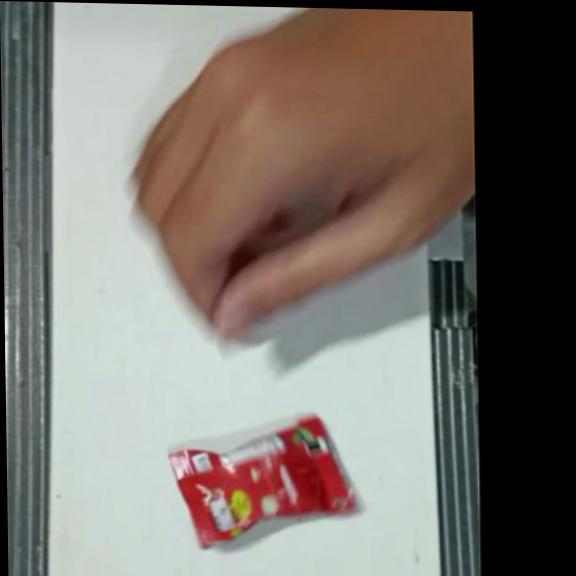Plastik: (167, 411, 359, 551)
